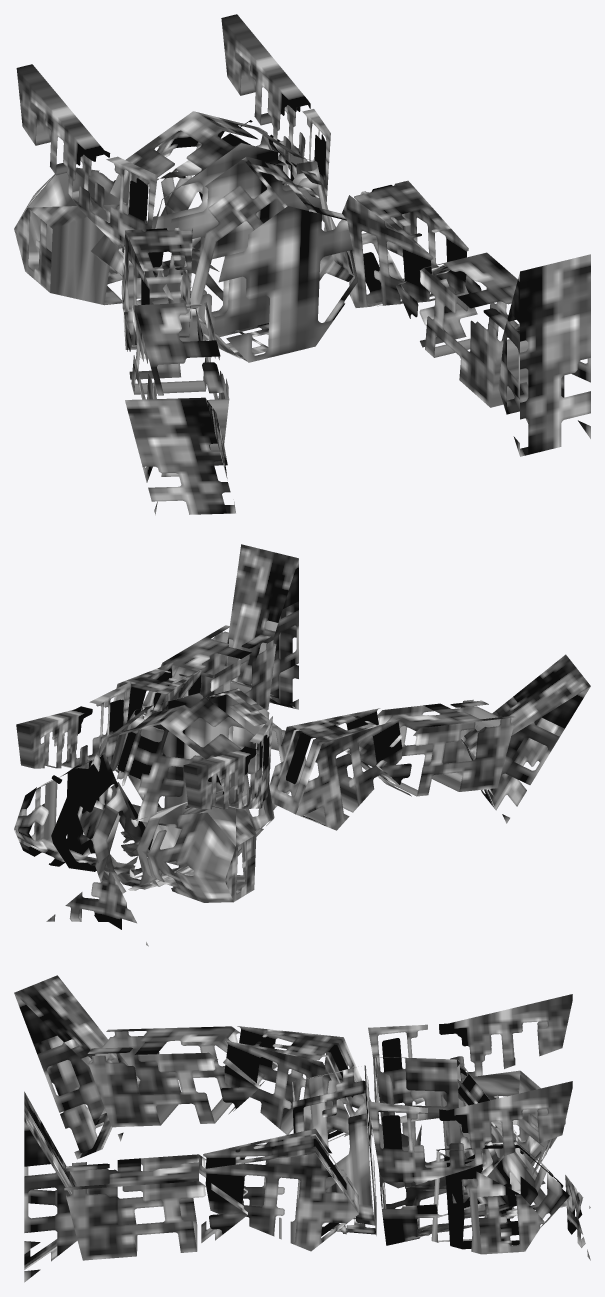
Rendered from jaegermech_wreck_backward.glb.
3 renders of one model, top to bottom at view 1: azimuth 30°, elevation 25°; view 2: azimuth 150°, elevation 25°; view 3: azimuth 270°, elevation 25°, orthographic. The views are drawn at different scales.
Visible parts, largest first — view 1: jm_rlleg; view 2: jm_rlleg; view 3: jm_rlleg.
Part boxes in pixels (box(x1,y1,x2,y2)): jm_rlleg: box(14, 14, 590, 515); jm_rlleg: box(14, 544, 590, 946); jm_rlleg: box(14, 975, 590, 1282).
Size of the model in its own units: 7.6 by 3.71 by 9.74.
1 material, 1 textured.
